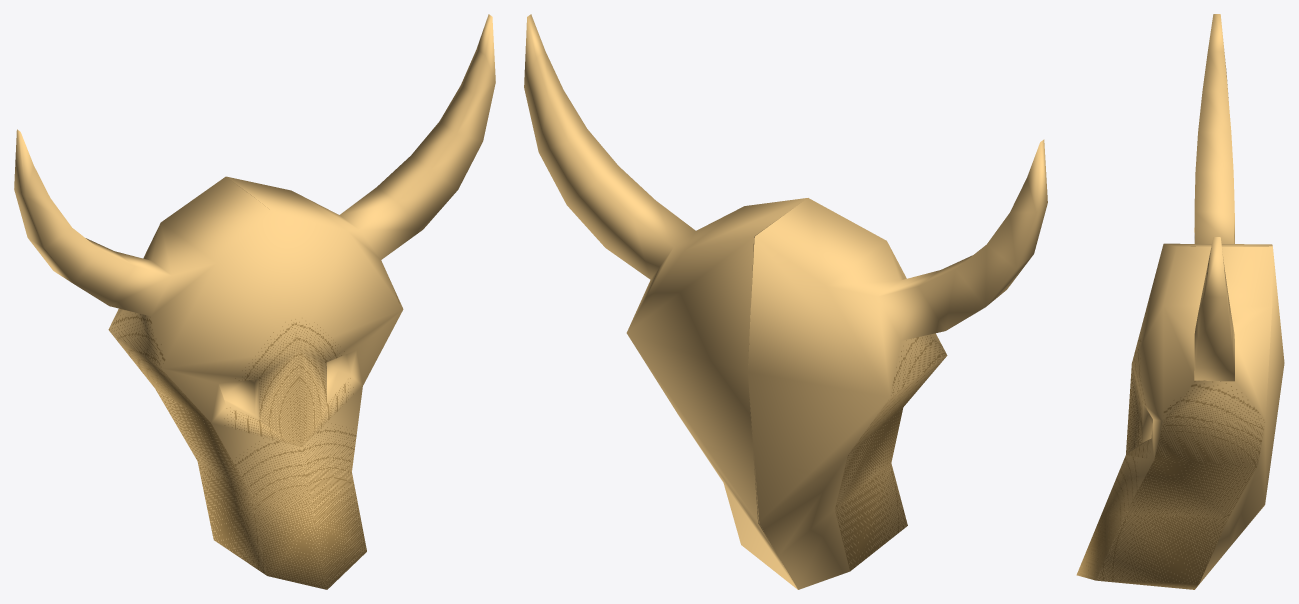
Rendered from Cowskull.fbx.
The picture shows the model from 3 angles, left to right: view 1: azimuth 30°, elevation 25°; view 2: azimuth 150°, elevation 25°; view 3: azimuth 270°, elevation 25°; orthographic projection. The views are drawn at different scales.
Parts seen in each view (by area): view 1: Cube; view 2: Cube; view 3: Cube.
Part boxes in pixels (<box>): Cube: <box>14,14,495,589</box>; Cube: <box>524,14,1047,589</box>; Cube: <box>1076,14,1284,589</box>.
Bounding box in the file's own units: 291 × 115 × 282.
